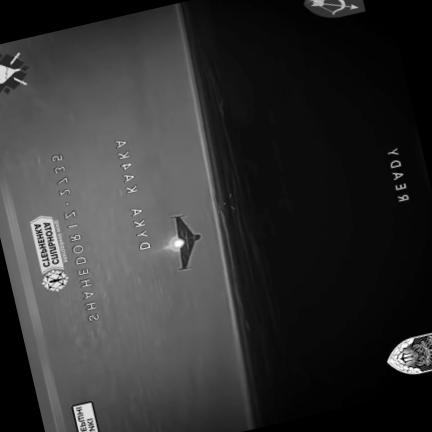Shahed: (168, 214, 200, 270)
